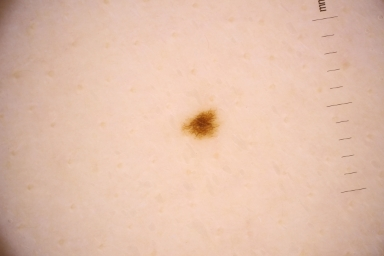melanoma: (185, 110, 216, 138)
